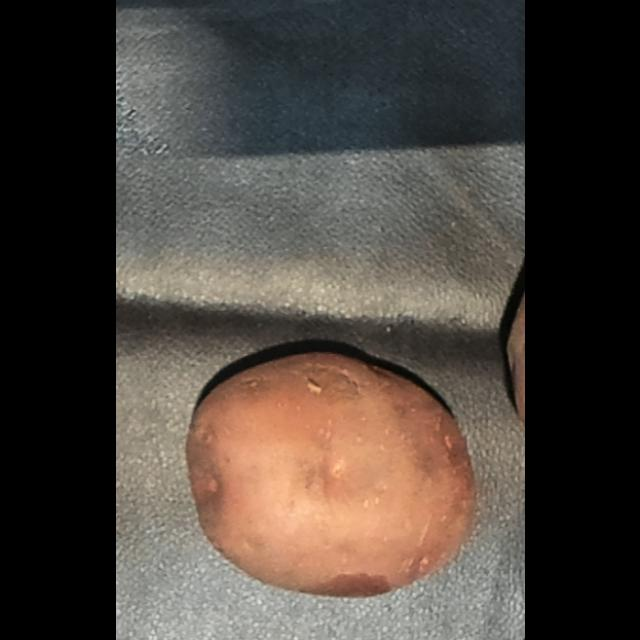Diseased-fungal potato: (174, 320, 488, 612)
